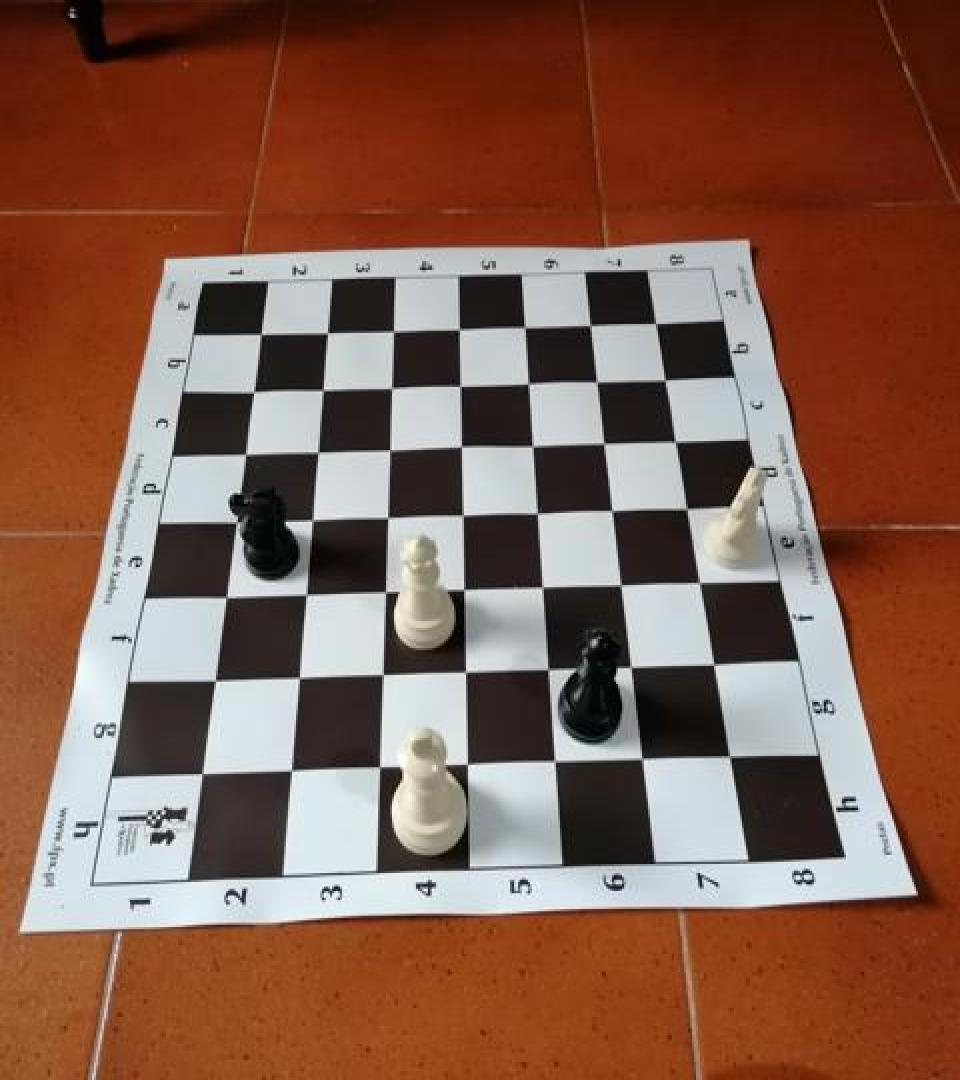xcorner: (369, 572, 401, 609), (450, 653, 482, 690), (640, 305, 672, 341), (574, 306, 606, 342), (509, 308, 541, 344), (443, 310, 475, 346), (377, 312, 409, 348), (311, 313, 343, 349), (245, 315, 277, 351), (650, 360, 682, 396), (581, 362, 613, 398), (513, 364, 545, 400), (444, 366, 476, 402), (376, 368, 408, 404), (307, 370, 339, 406), (237, 371, 269, 407), (661, 422, 693, 458), (589, 423, 621, 459), (518, 425, 550, 461), (446, 428, 478, 464), (374, 430, 406, 466), (301, 432, 333, 468), (229, 434, 261, 470), (673, 488, 705, 524), (598, 490, 630, 526), (522, 493, 554, 529), (447, 496, 479, 532), (371, 498, 403, 534), (296, 500, 328, 536), (219, 503, 251, 539), (686, 564, 718, 600), (607, 566, 639, 602), (528, 568, 560, 604), (449, 570, 481, 606), (289, 576, 321, 612), (209, 578, 241, 614), (701, 646, 733, 682), (618, 648, 650, 684), (534, 652, 566, 688), (366, 657, 398, 693), (282, 659, 314, 695), (197, 662, 229, 698), (717, 738, 749, 774), (629, 740, 661, 776), (541, 744, 573, 780), (452, 747, 484, 783), (363, 750, 395, 786), (274, 754, 306, 790), (184, 756, 216, 792)
